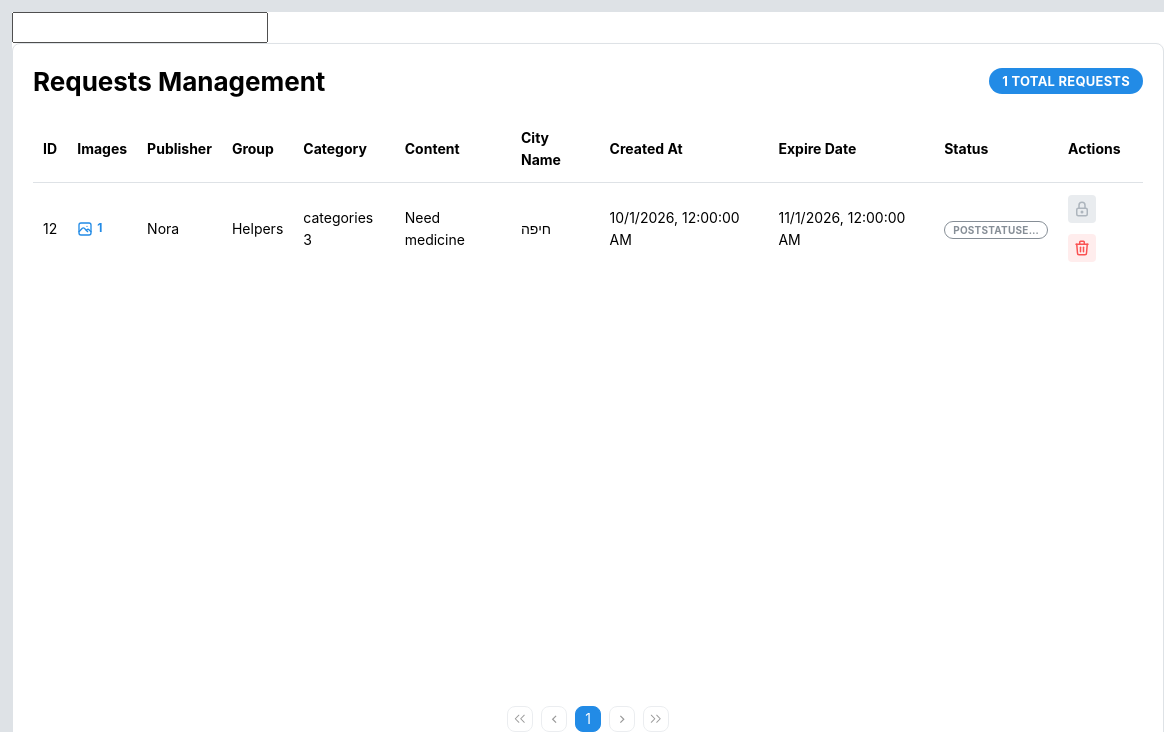
Scenario: detail failure offers retry and missing linked entities have clear fallbacks
Step 1. Click the text "Need medicine" → {"x": 435, "y": 228}, box [405,209,465,248]
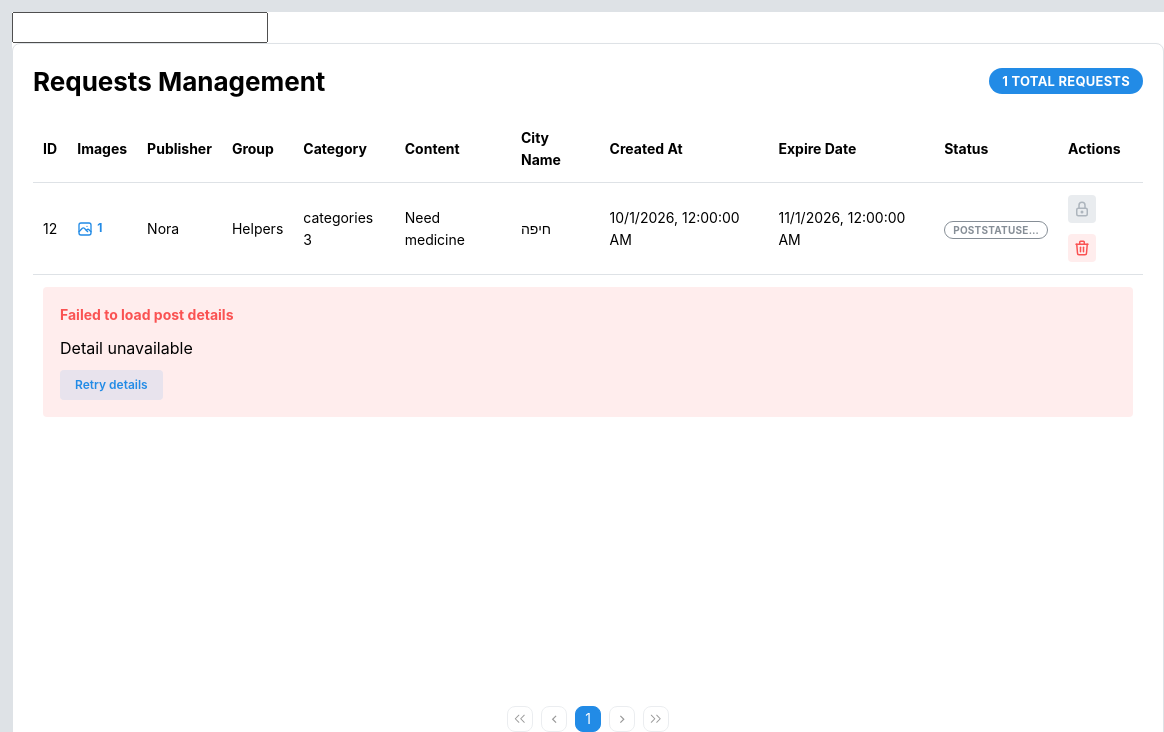
Now the text "Detail unavailable" is shown, box [60,338,193,358]
Step 2. Click the button "Retry details" → {"x": 111, "y": 385}, box [60,370,163,400]
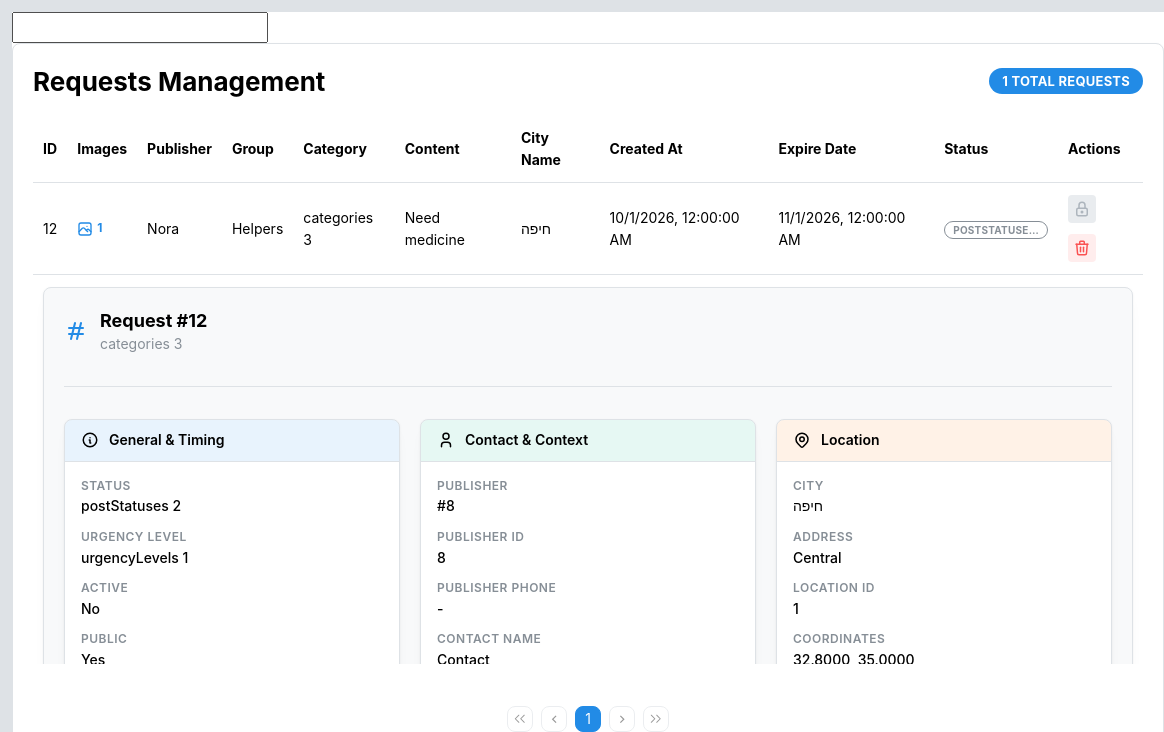
Now the heading "Request #12" is shown, box [100,308,207,334]
Now the text "#8" is shown, box [437,497,455,514]
